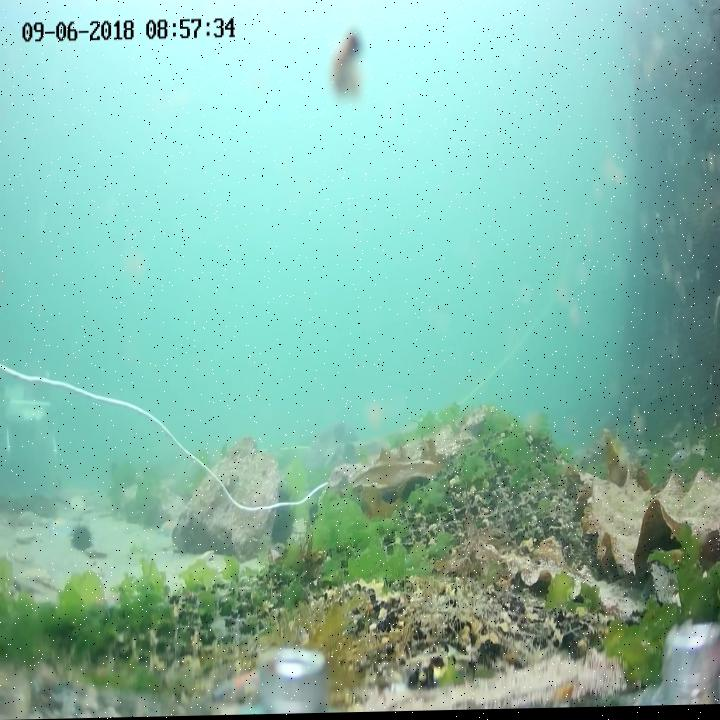scallop: (9, 545, 35, 570), (15, 525, 36, 546)
starfish: (214, 667, 273, 703), (91, 589, 126, 615), (46, 515, 77, 541), (159, 517, 184, 538)
